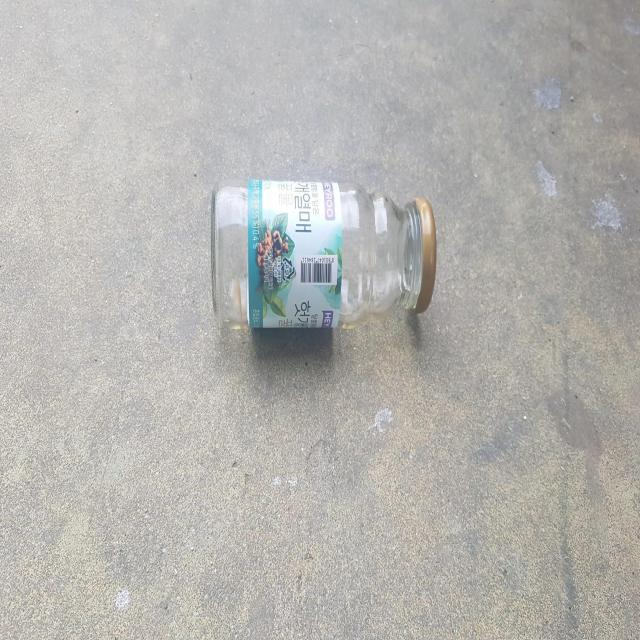glass: (212, 178, 436, 328)
